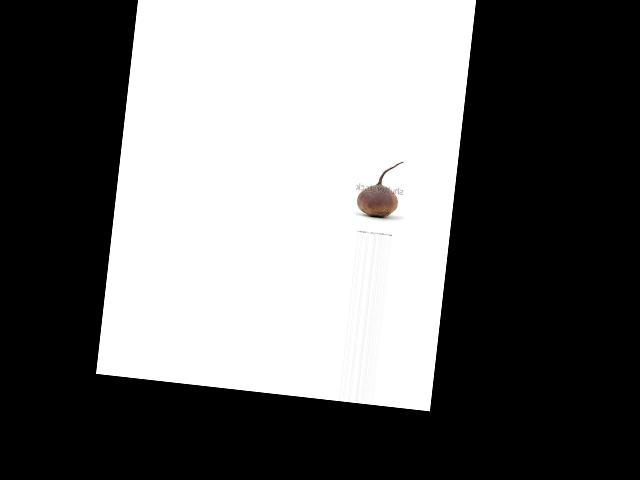beet: (354, 156, 403, 219)
